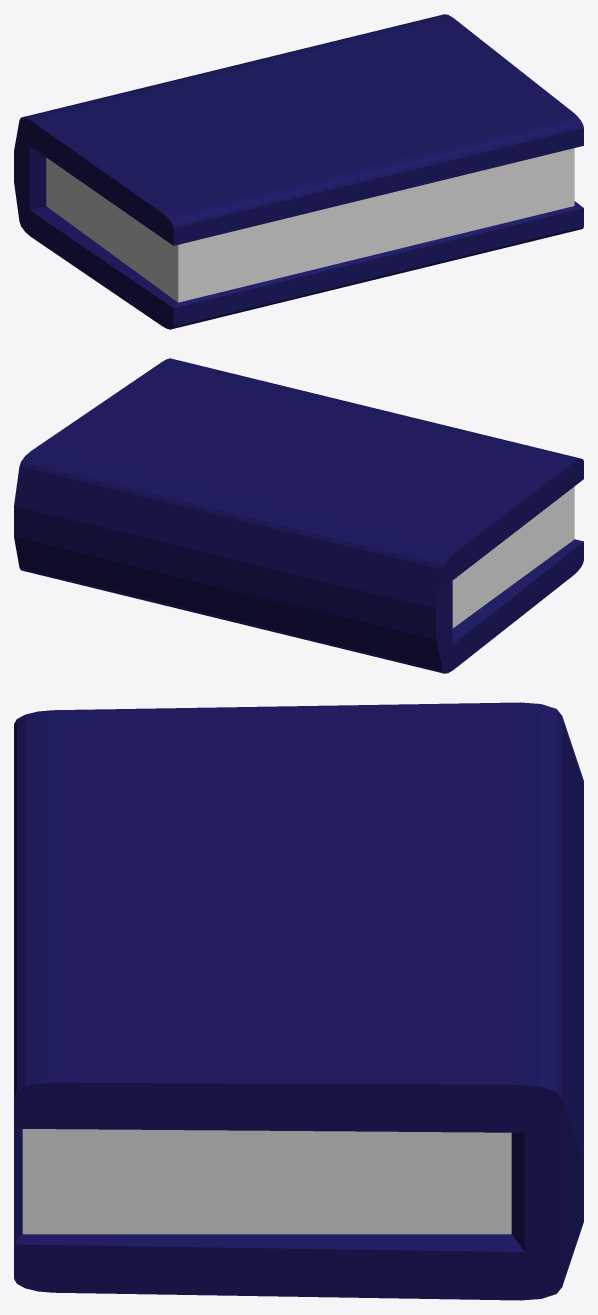
The model's file is book_blue.fbx.
3 views of the same model, one above another, from view 1: azimuth 30°, elevation 25°; view 2: azimuth 150°, elevation 25°; view 3: azimuth 270°, elevation 25° (orthographic). The views are drawn at different scales.
Visible parts, largest first — view 1: Book_blue; view 2: Book_blue; view 3: Book_blue.
Part boxes in pixels (<box>): Book_blue: <box>14,14,583,329</box>; Book_blue: <box>14,358,583,673</box>; Book_blue: <box>14,702,583,1300</box>.
Bounding box in the file's own units: 65.78 × 17.26 × 41.35.
